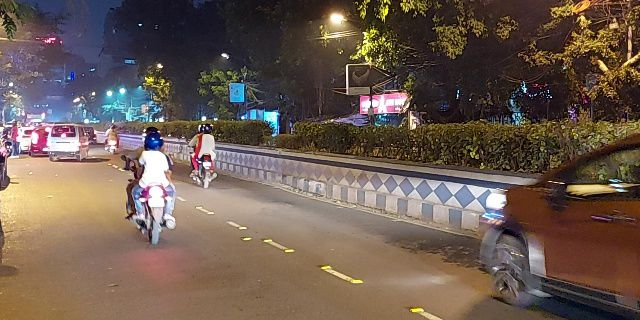Motorbike: (125, 129, 173, 248), (186, 122, 222, 193)
Van: (46, 123, 86, 164)
